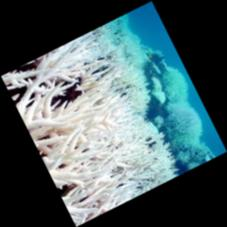bleached_corals: (2, 12, 204, 225)
